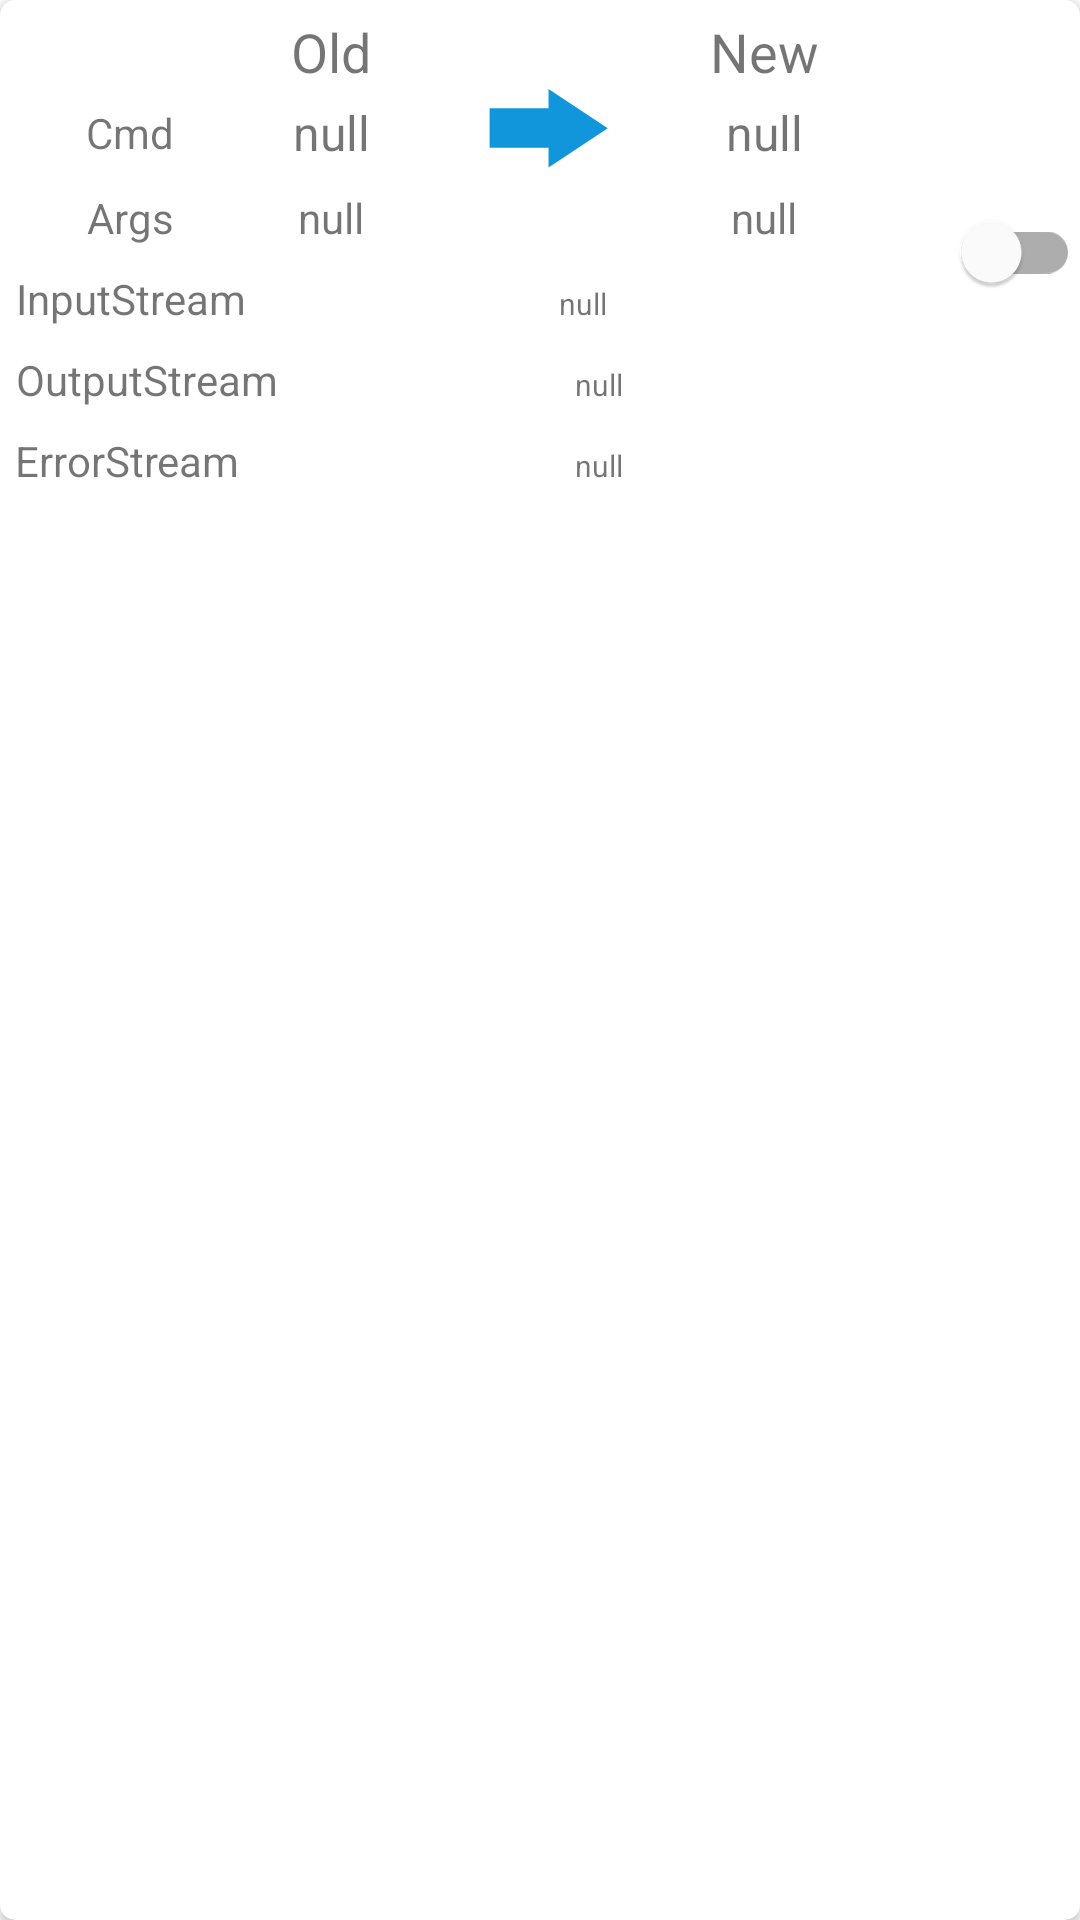

Icons on this 1080x1920 Android screen, each with its box as [left=x1, top=y1, right=x2, bottom=y2]:
arrow: [left=489, top=89, right=608, bottom=168]
